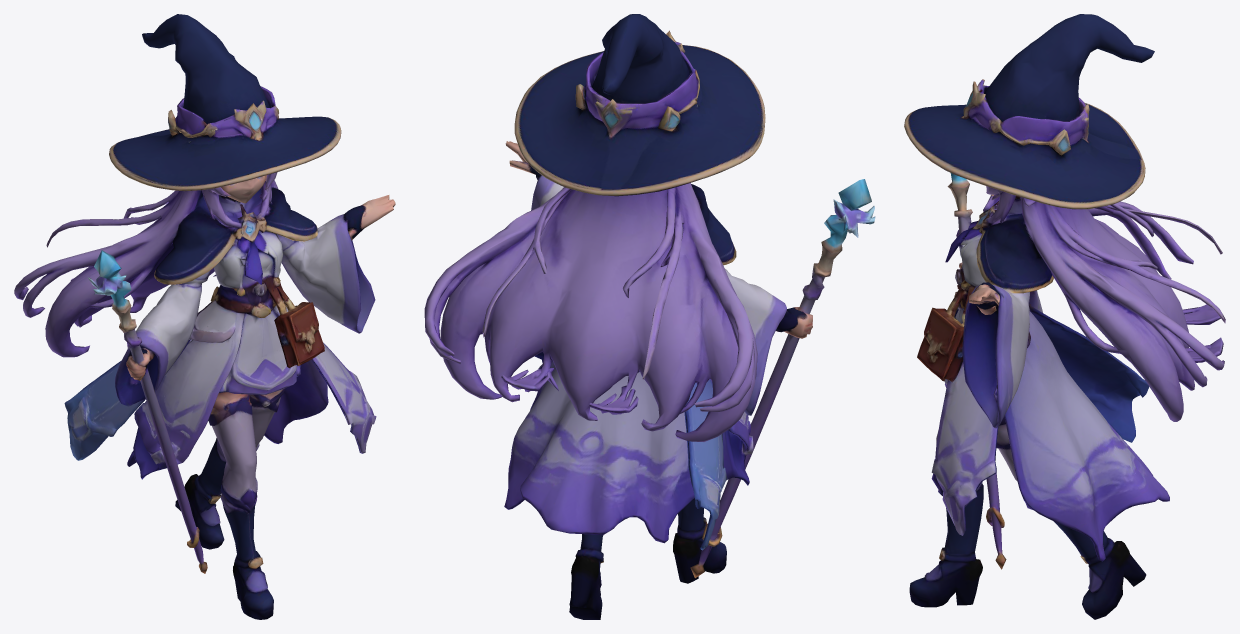
The model's file is Anime Mage Character.glb.
3 views of the same model, side by side, from view 1: azimuth 30°, elevation 25°; view 2: azimuth 150°, elevation 25°; view 3: azimuth 270°, elevation 25° (orthographic). The views are drawn at different scales.
Visible parts, largest first — view 1: pb_node; view 2: pb_node; view 3: pb_node.
Part boxes in pixels (bbox=[...]): pb_node: bbox=[14, 14, 395, 619]; pb_node: bbox=[424, 14, 875, 619]; pb_node: bbox=[904, 14, 1225, 619].
Bounding box in the file's own units: 0.6055 × 1 × 0.4974.
Materials: 1 (1 with a texture image).
